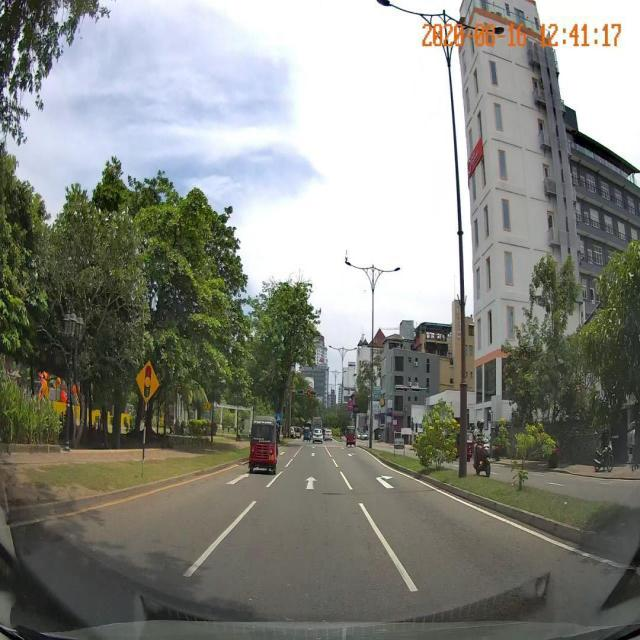Strelka vpered: (225, 473, 249, 485), (305, 476, 317, 490)
Strelka vpravo: (376, 475, 395, 489)
